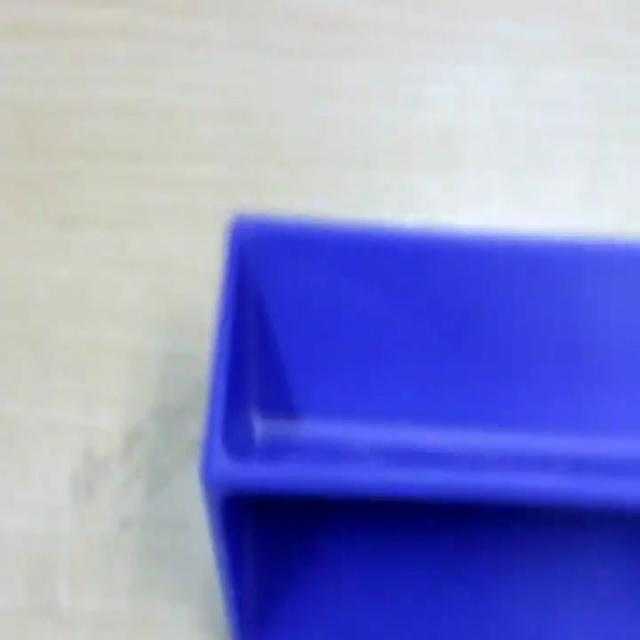blue_block: (199, 208, 638, 636)
